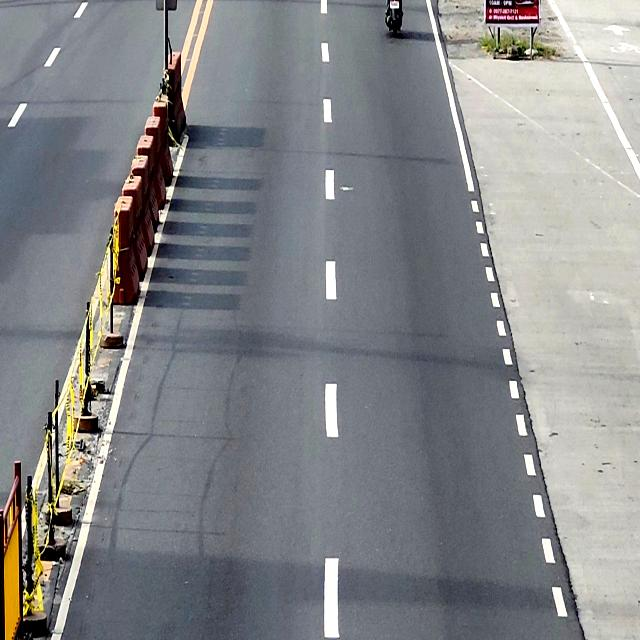Motorcycle: (384, 0, 403, 37)
